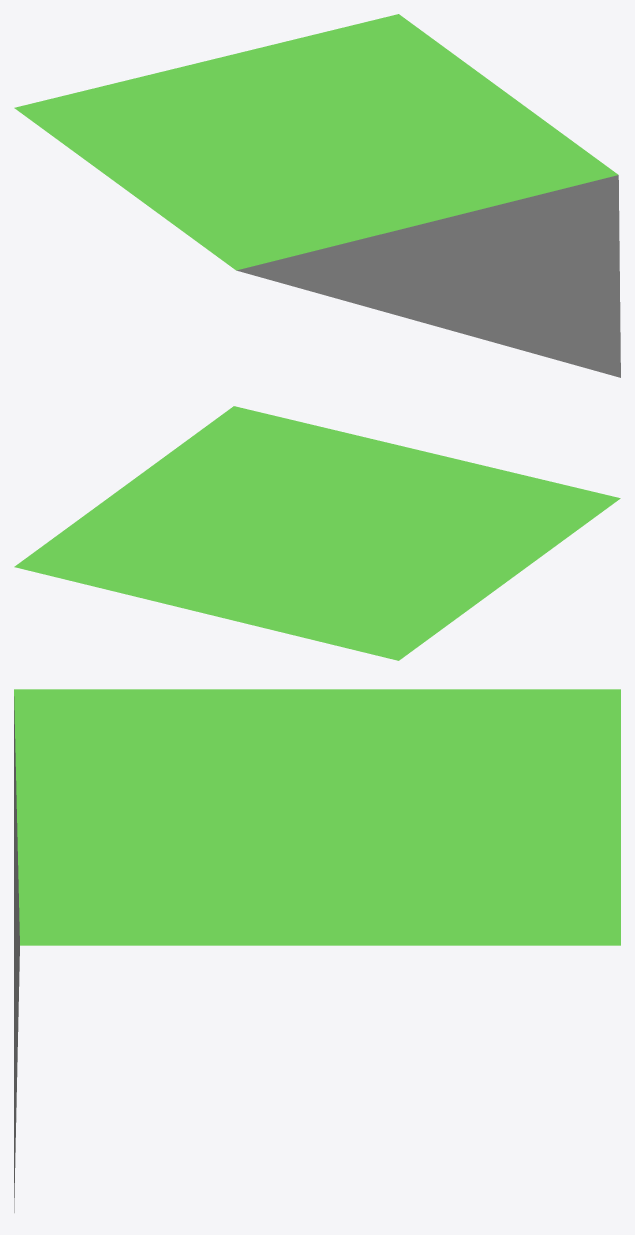
File: GrassSideCliffInclineEndF.glb
The picture shows the model from 3 angles, top to bottom: view 1: azimuth 30°, elevation 25°; view 2: azimuth 150°, elevation 25°; view 3: azimuth 270°, elevation 25°; orthographic projection. The views are drawn at different scales.
Parts seen in each view (by area): view 1: GrassSideCliffInclineEndF; view 2: GrassSideCliffInclineEndF; view 3: GrassSideCliffInclineEndF.
Part boxes in pixels (box(x1,y1,x2,y2)): GrassSideCliffInclineEndF: box(14, 14, 620, 377); GrassSideCliffInclineEndF: box(14, 406, 620, 660); GrassSideCliffInclineEndF: box(14, 689, 620, 1212).
Size of the model in its own units: 1 by 0.5 by 1.
